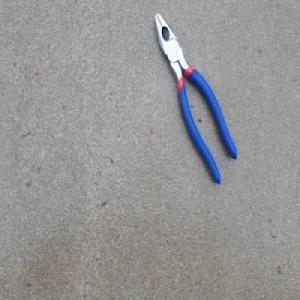Pliers: (153, 11, 239, 186)
